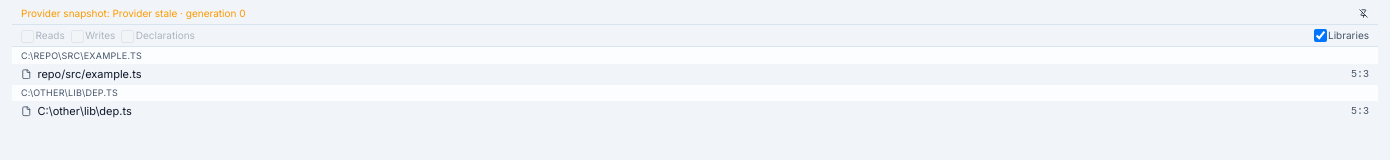
Test: ReferencesPanel › keeps role filters disabled with an honest reason and filters libraries by URI owner
The width and height of the screenshot is (1390, 160).
Check: the checkbox labelled "Reads" is disabled, box [21,30,34,43]
Check: the checkbox labelled "Declarations" is disabled, box [121,30,134,43]
// The libraries toggle is real: unchecking removes out-of-root owners.
Click the checkbox with test id "references-filter-libraries": (1320,36) [1314,29,1326,42]
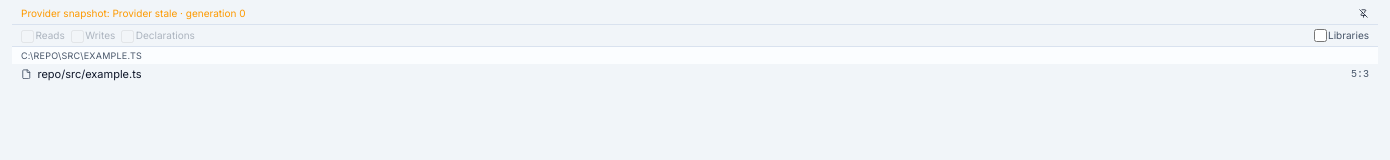
Check: the button "repo/src/example.ts 5:3" is shown, box [12,64,1378,84]
Check: the text "dep.ts" is gone
